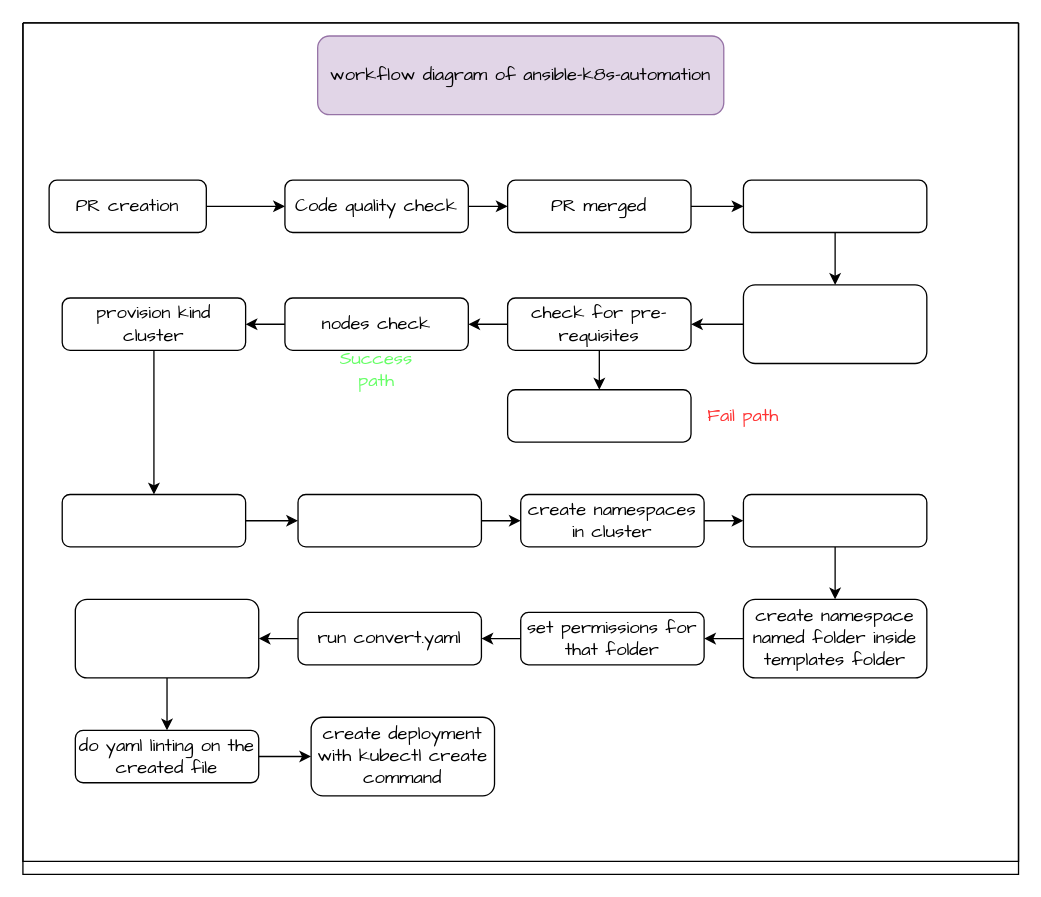
This 1041x897 diagram has some shape labels left out. The centre of each missing label's shape, as x and y in pixels:
"add taint & label to nodes" goes at point 389,520.
"fail the playbook" goes at point 598,415.
"node check" goes at point 153,520.
"provision script triggered" goes at point 834,206.
"run template.yaml" goes at point 834,520.
"Runs ansible playbook in self-hosted runner" goes at point 834,324.
"use template module to convert jinja template to yaml file" goes at point 166,638.
